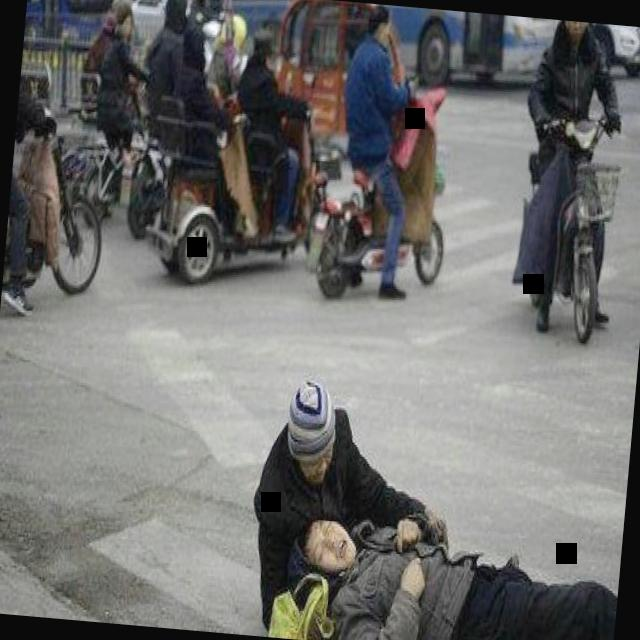Fall-Detected: (270, 494, 623, 640)
